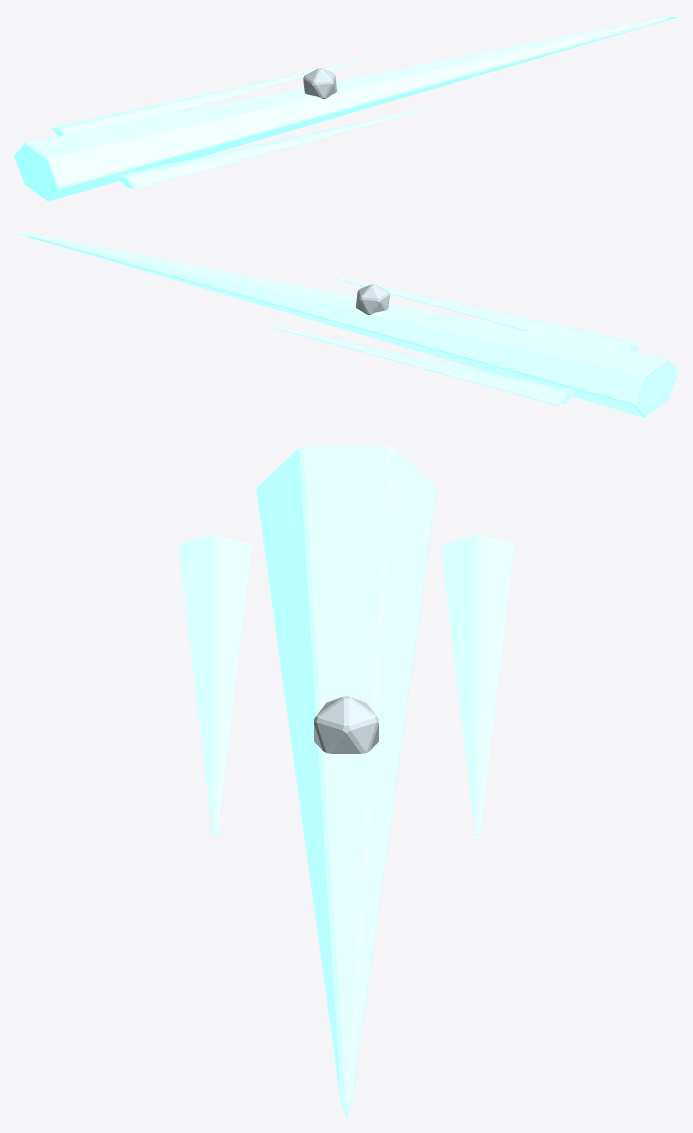
The model's file is SM_PhantomCruiser.fbx.
3 views of the same model, one above another, from view 1: azimuth 30°, elevation 25°; view 2: azimuth 150°, elevation 25°; view 3: azimuth 270°, elevation 25° (orthographic). The views are drawn at different scales.
Visible parts, largest first — view 1: SM_PhantomCruiser; view 2: SM_PhantomCruiser; view 3: SM_PhantomCruiser.
Boxes of the visible parts, x1,y1,x2,y2 form: SM_PhantomCruiser: (14, 14, 678, 201); SM_PhantomCruiser: (14, 230, 678, 417); SM_PhantomCruiser: (178, 446, 514, 1118).
Size of the model in its own units: 226 by 18.78 by 51.19.
